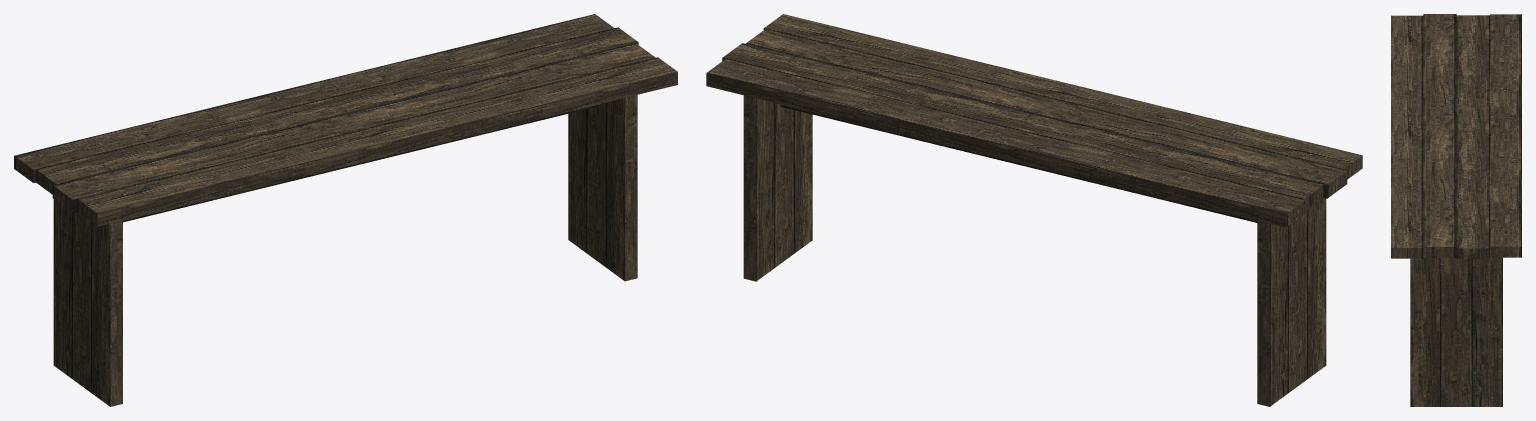
File: bench_mx_1_1.glb
3 renders of one model, left to right at view 1: azimuth 30°, elevation 25°; view 2: azimuth 150°, elevation 25°; view 3: azimuth 270°, elevation 25°, orthographic. The views are drawn at different scales.
Parts seen in each view (by area): view 1: bench_mx_1_1; view 2: bench_mx_1_1; view 3: bench_mx_1_1.
Part boxes in pixels (x1,y1,x2,y2): bench_mx_1_1: (14,14,677,406); bench_mx_1_1: (706,14,1362,406); bench_mx_1_1: (1391,14,1521,406).
Size of the model in its own units: 1.86 by 0.63 by 0.438.
Materials: 1 (1 with a texture image).
